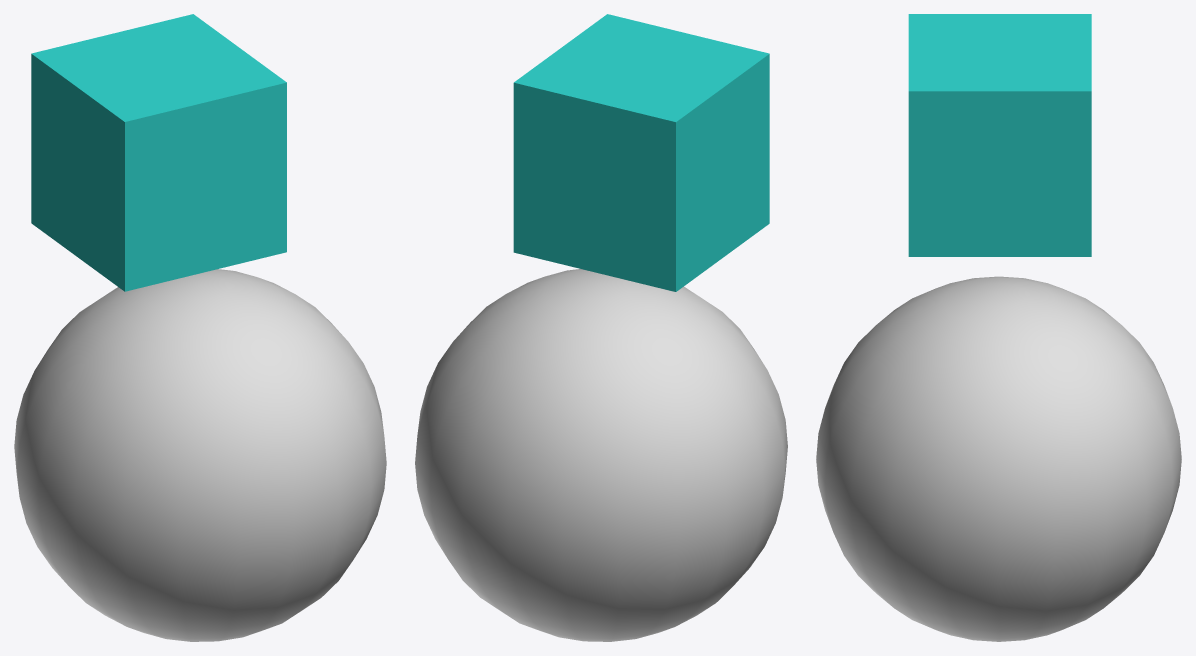
3 views of the same model, side by side, from view 1: azimuth 30°, elevation 25°; view 2: azimuth 150°, elevation 25°; view 3: azimuth 270°, elevation 25° (orthographic). The views are drawn at different scales.
Parts seen in each view (by area): view 1: controle, Cube; view 2: controle, Cube; view 3: controle, Cube.
Part boxes in pixels (box(x1,y1,x2,y2)): controle: box(14, 269, 386, 641); Cube: box(31, 14, 286, 291); controle: box(415, 269, 787, 641); Cube: box(513, 14, 769, 291); controle: box(816, 276, 1181, 641); Cube: box(908, 14, 1091, 256).
Size of the model in its own units: 2 by 3.34 by 2.
